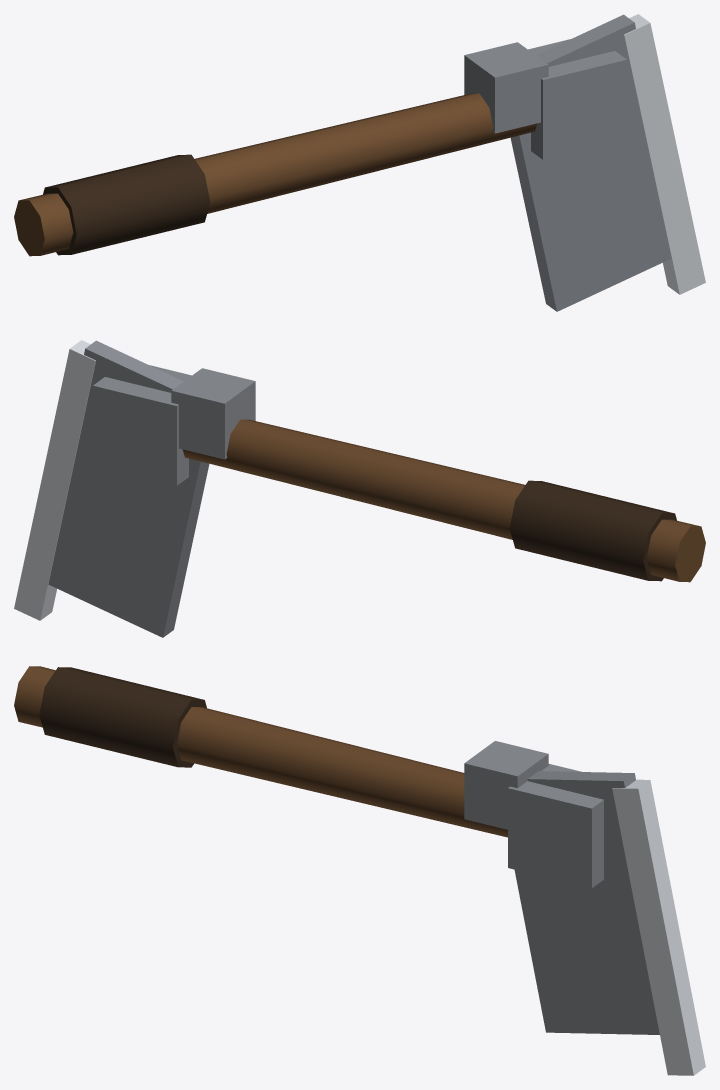
File: thrown-axe.glb
The picture shows the model from 3 angles, top to bottom: view 1: azimuth 30°, elevation 25°; view 2: azimuth 150°, elevation 25°; view 3: azimuth 330°, elevation 25°; orthographic projection.
Visible parts, largest first — view 1: Mesh_Blade, Mesh_Haft, Mesh_Grip, Mesh_Eye, Mesh_Edge, Mesh_Poll; view 2: Mesh_Blade, Mesh_Haft, Mesh_Grip, Mesh_Eye, Mesh_Edge, Mesh_Poll; view 3: Mesh_Blade, Mesh_Haft, Mesh_Edge, Mesh_Grip, Mesh_Eye, Mesh_Poll.
Part boxes in pixels (x1,y1,x2,y2): Mesh_Blade: [510, 14, 671, 311]; Mesh_Haft: [14, 93, 537, 256]; Mesh_Grip: [43, 154, 210, 255]; Mesh_Eye: [528, 39, 626, 159]; Mesh_Edge: [624, 14, 705, 294]; Mesh_Poll: [464, 42, 548, 133]; Mesh_Blade: [48, 340, 209, 637]; Mesh_Haft: [182, 419, 705, 582]; Mesh_Grip: [509, 480, 676, 581]; Mesh_Eye: [93, 365, 191, 485]; Mesh_Edge: [14, 340, 95, 620]; Mesh_Poll: [171, 368, 255, 459]; Mesh_Blade: [514, 771, 659, 1034]; Mesh_Haft: [14, 666, 507, 837]; Mesh_Edge: [612, 779, 705, 1075]; Mesh_Grip: [39, 667, 206, 767]; Mesh_Eye: [508, 764, 603, 888]; Mesh_Poll: [464, 741, 548, 829].
Bounding box in the file's own units: 1.76 × 0.7082 × 0.17.
